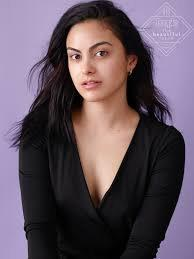Sober: (65, 29, 124, 93)
